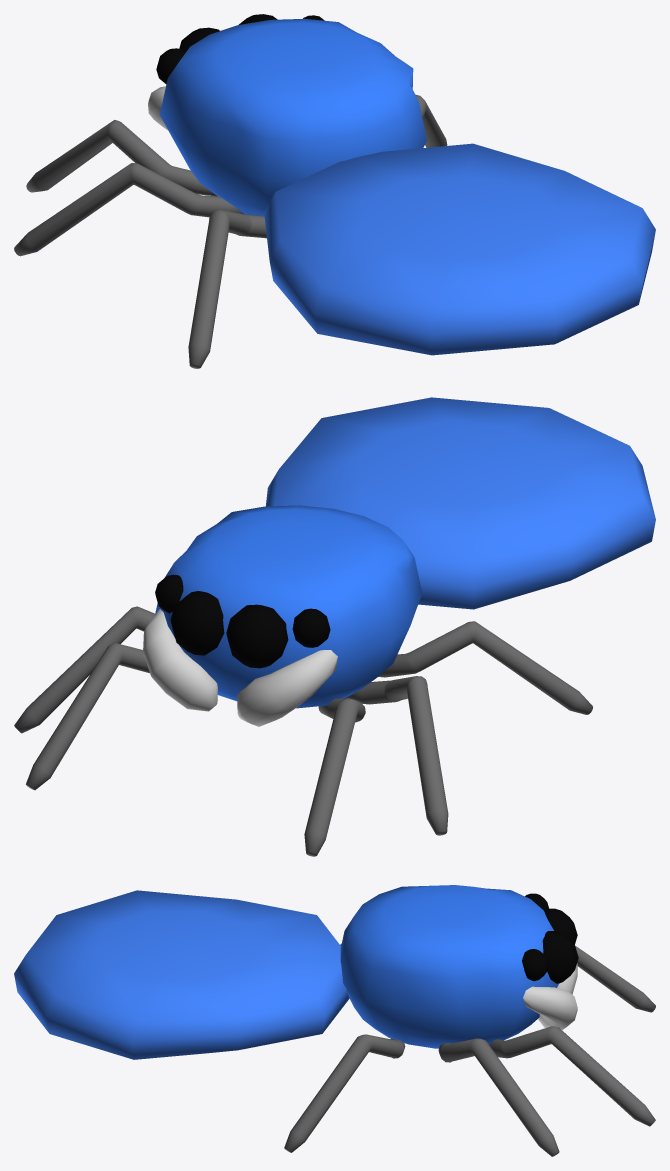
The model's file is Spider54.glb.
3 renders of one model, top to bottom at view 1: azimuth 30°, elevation 25°; view 2: azimuth 150°, elevation 25°; view 3: azimuth 270°, elevation 25°, orthographic. The views are drawn at different scales.
Parts seen in each view (by area): view 1: Butt, Head, Leg.003, Leg.005, Leg.001, Leg.002, Eye.002; view 2: Butt, Head, Leg.005, Leg.003, Pincer.001, Pincer, Leg, Leg.001, Leg.002, Eye, Eye.001, Eye.002 (+1 smaller); view 3: Butt, Head, Leg, Leg.002, Leg.004, Pincer, Leg.001, Eye.001, Eye.003, Eye.
Boxes of the visible parts, x1,y1,x2,y2 form: Butt: (264,143,655,355); Head: (159,18,426,216); Leg.003: (14,163,244,256); Leg.005: (188,210,266,368); Leg.001: (26,120,217,196); Leg.002: (415,94,447,147); Eye.002: (156,48,185,84); Butt: (265,397,655,609); Head: (155,505,422,708); Leg.005: (378,621,592,714); Leg.003: (343,676,448,835); Pincer.001: (237,650,337,726); Pincer: (143,609,217,711); Leg: (26,642,149,790); Leg.001: (304,698,365,856); Leg.002: (14,606,154,733); Eye: (226,604,288,668); Eye.001: (170,591,224,655); Eye.002: (292,608,330,647); Butt: (14,890,349,1059); Head: (340,885,559,1048); Leg: (489,1026,655,1126); Leg.002: (438,1038,559,1156); Leg.004: (284,1034,405,1152); Pincer: (523,986,577,1029); Leg.001: (575,945,655,1012); Eye.001: (542,931,578,983); Eye.003: (522,949,548,981); Eye: (543,908,577,944).
Bounding box in the file's own units: 0.335 × 0.1467 × 0.521.
